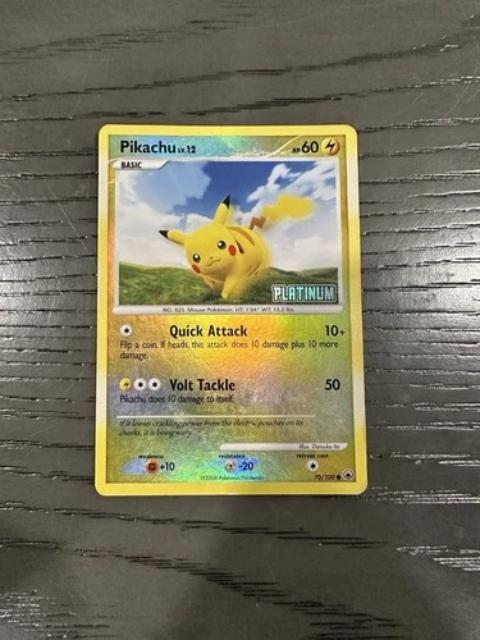Card: (90, 118, 370, 500)
Name: (113, 133, 200, 157)
